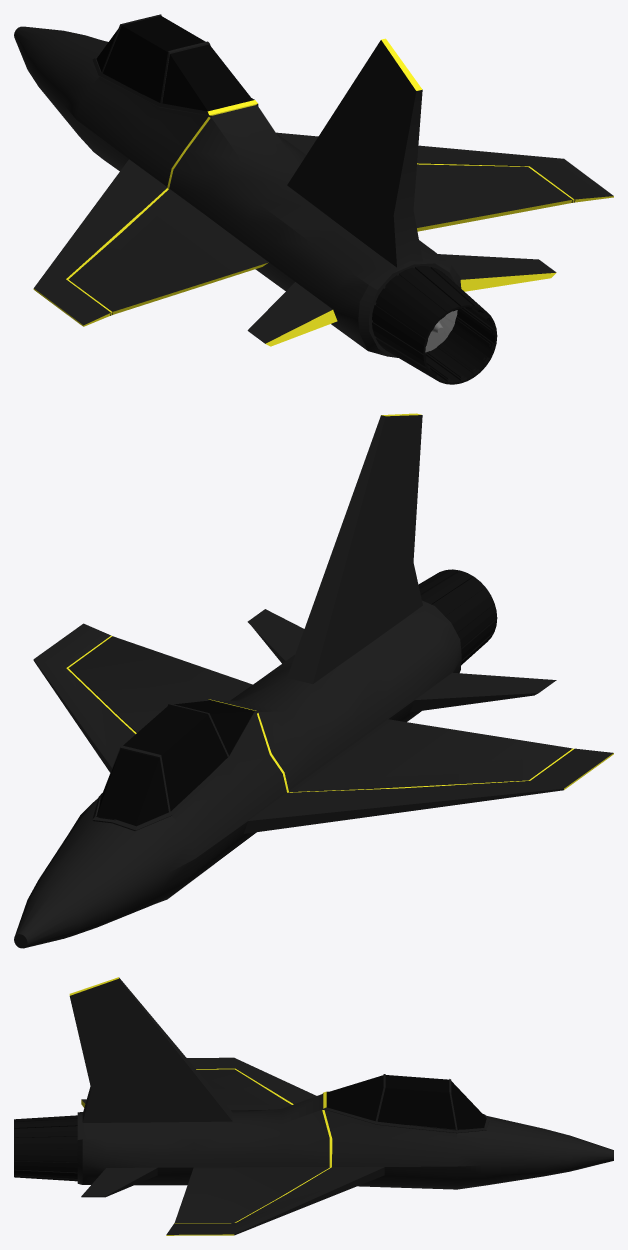
The model's file is Fighter2.fbx.
The picture shows the model from 3 angles, top to bottom: view 1: azimuth 30°, elevation 25°; view 2: azimuth 150°, elevation 25°; view 3: azimuth 270°, elevation 25°; orthographic projection. The views are drawn at different scales.
Visible parts, largest first — view 1: F4; view 2: F4; view 3: F4.
Part boxes in pixels (bbox=[...]): F4: bbox=[14, 14, 613, 384]; F4: bbox=[14, 413, 613, 948]; F4: bbox=[14, 977, 613, 1235].
Size of the model in its own units: 195 by 105 by 280.
